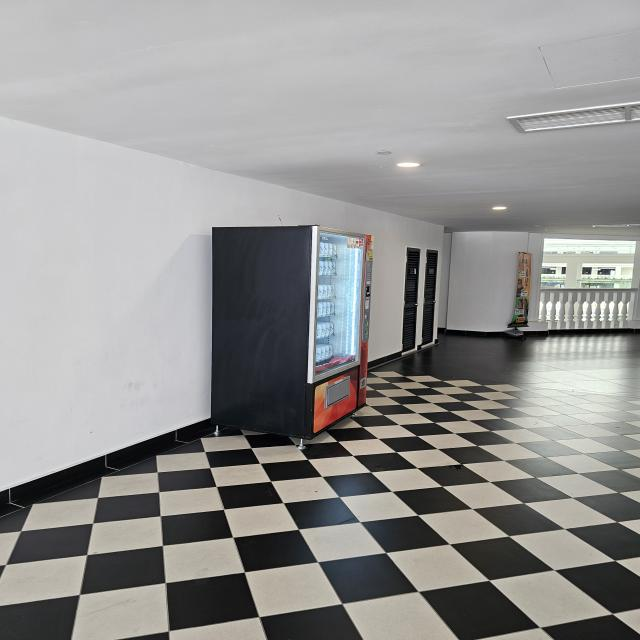footpath: (88, 446, 630, 640)
obstacle: (208, 223, 376, 450), (509, 247, 529, 335)
